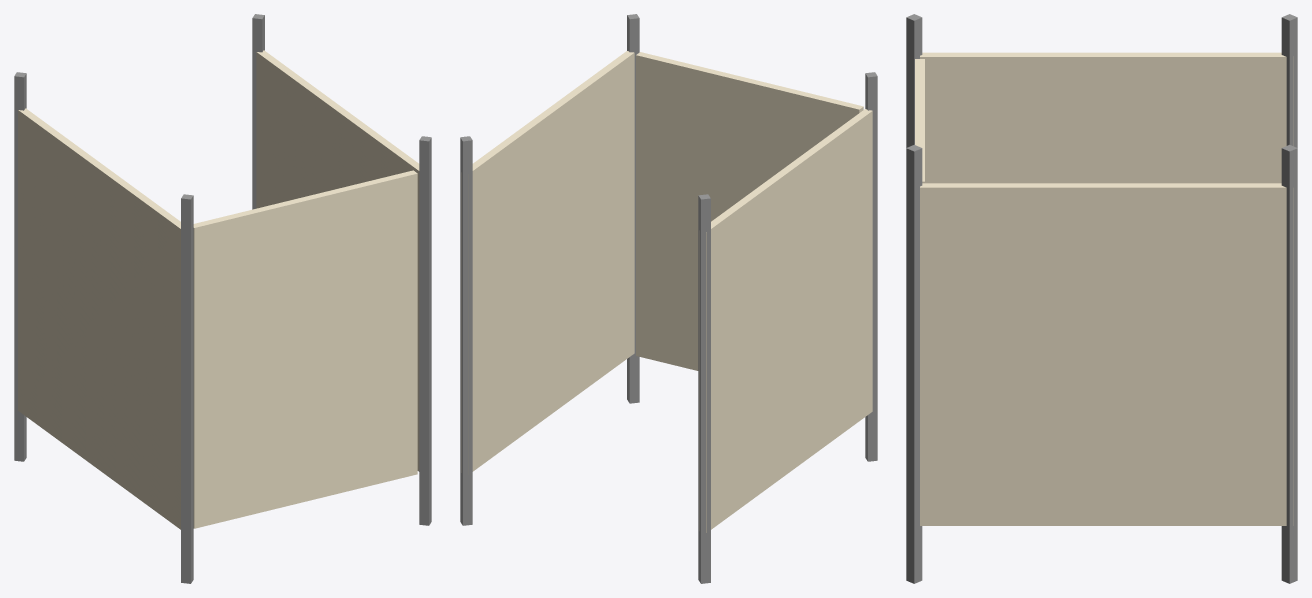
File: Bathroom_Stall_Closed.fbx
3 renders of one model, left to right at view 1: azimuth 30°, elevation 25°; view 2: azimuth 150°, elevation 25°; view 3: azimuth 270°, elevation 25°, orthographic. The views are drawn at different scales.
Visible parts, largest first — view 1: Bathroom_Stall_Closed; view 2: Bathroom_Stall_Closed; view 3: Bathroom_Stall_Closed.
Part boxes in pixels (left/top/right/bottom): Bathroom_Stall_Closed: left=14, top=14, right=431, bottom=583; Bathroom_Stall_Closed: left=460, top=14, right=877, bottom=583; Bathroom_Stall_Closed: left=906, top=14, right=1297, bottom=583.
Size of the model in its own units: 121 by 177 by 145.
